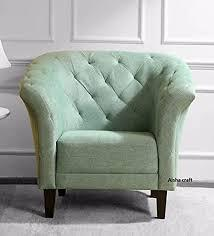chair: (20, 36, 191, 232)
table: (0, 101, 18, 129)
